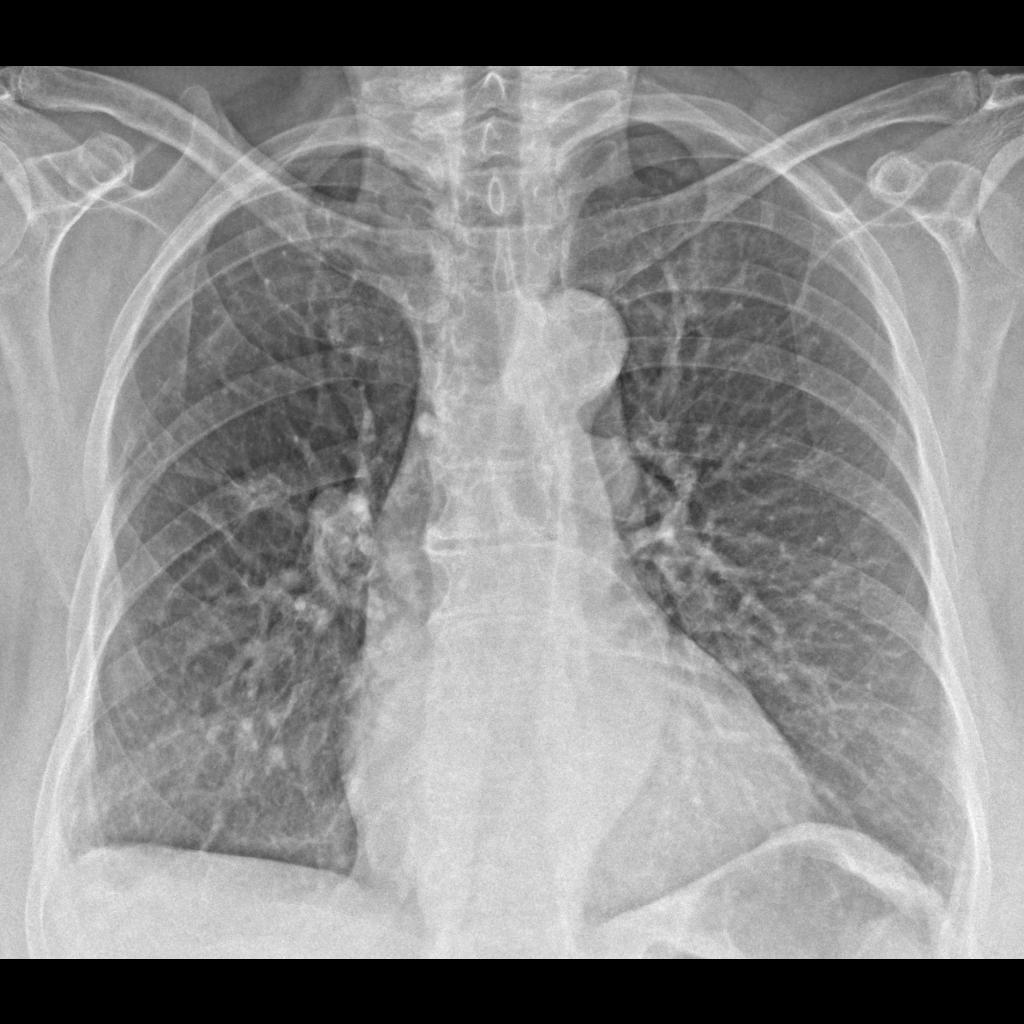Nodule: (228, 456, 302, 531)
